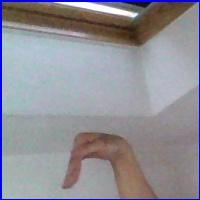del: (60, 129, 136, 193)
